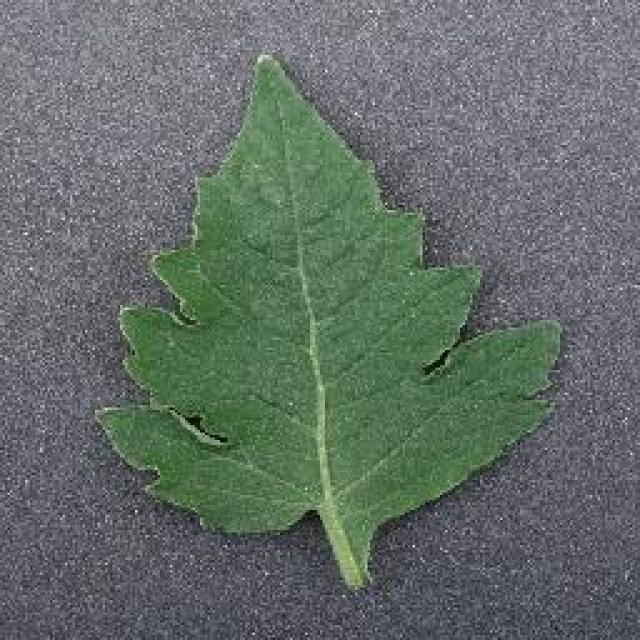Healthy: (82, 38, 568, 602)
